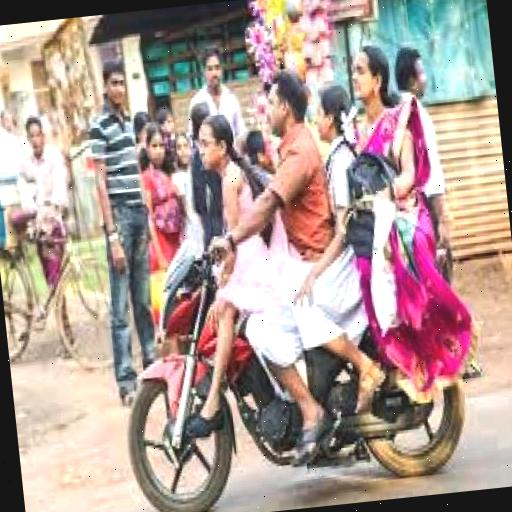no helmet: (257, 76, 316, 144)
triple riding: (98, 52, 468, 482)
